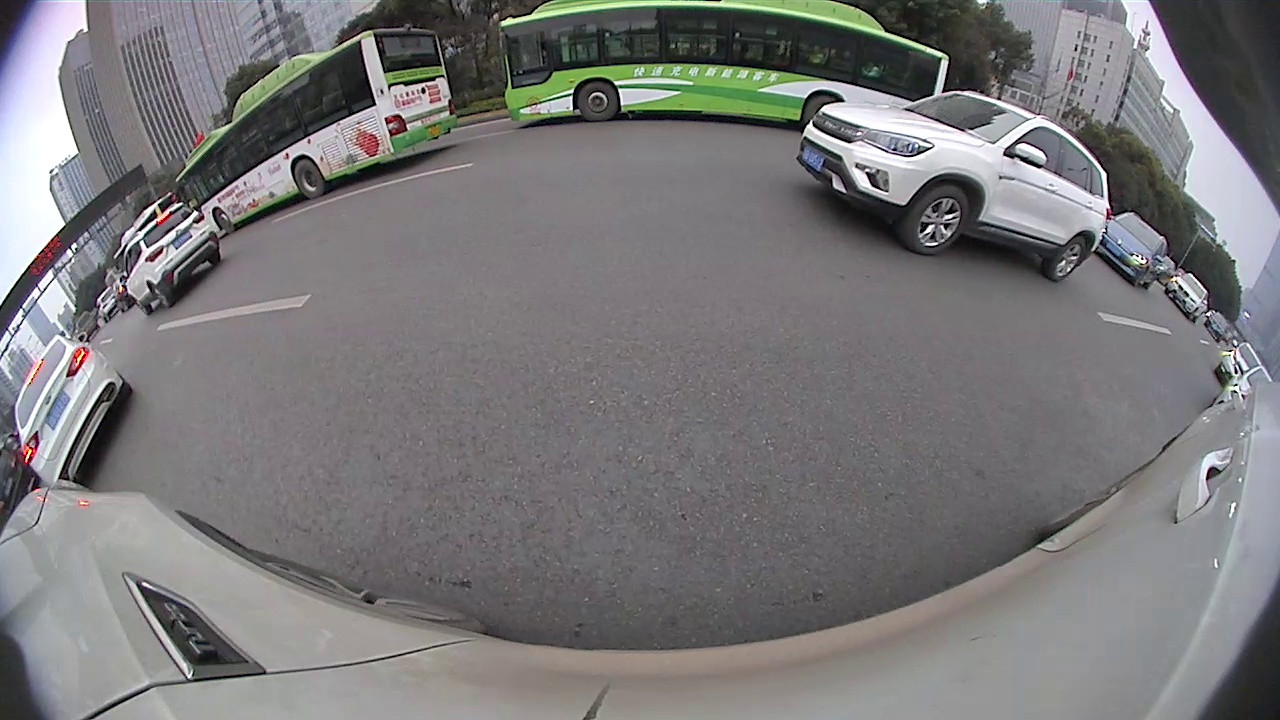bus: (170, 21, 460, 236), (498, 1, 955, 127)
car: (793, 88, 1114, 283), (11, 330, 133, 487), (120, 197, 224, 319), (1098, 210, 1168, 292)
front: (905, 184, 970, 254), (576, 82, 622, 121), (213, 208, 234, 237)
rear: (1048, 235, 1089, 281), (293, 158, 326, 201)
